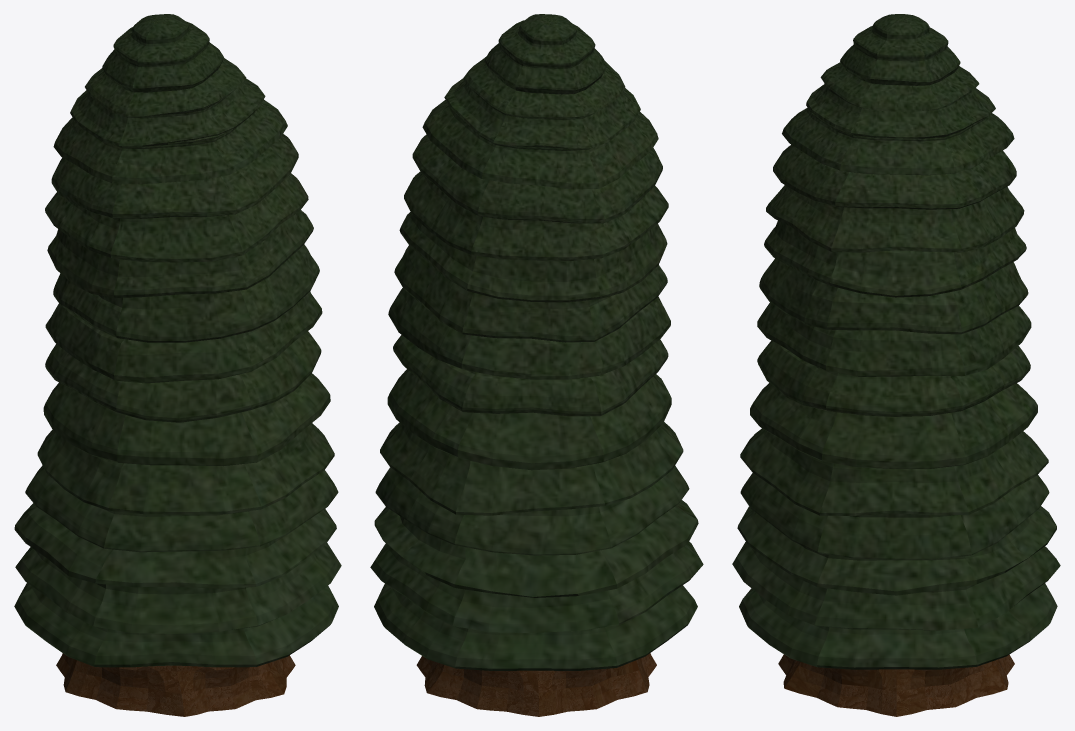
The model's file is DAEpinetree2.dae.
3 renders of one model, left to right at view 1: azimuth 30°, elevation 25°; view 2: azimuth 150°, elevation 25°; view 3: azimuth 270°, elevation 25°, orthographic.
Parts seen in each view (by area): view 1: TreeLow; view 2: TreeLow; view 3: TreeLow.
Boxes of the visible parts, x1,y1,x2,y2 form: TreeLow: (14,14,341,716); TreeLow: (370,14,703,716); TreeLow: (732,14,1060,716).
Bounding box in the file's own units: 1.46 × 1.59 × 3.42.
1 material, 1 textured.
